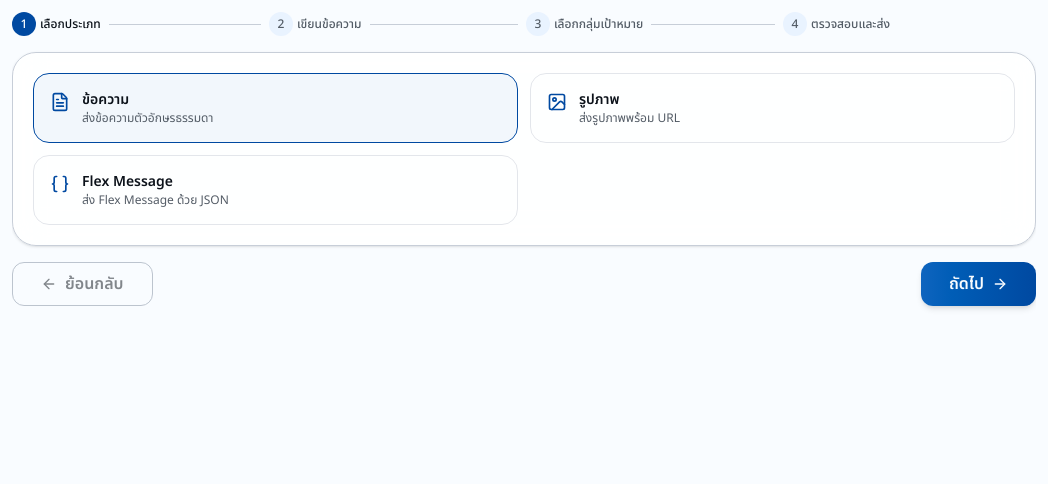
Test: BroadcastWizardClient ตัวช่วยสร้าง 4 ขั้น › ขั้นเขียนข้อความมีช่องชื่อแคมเปญ + ตัวนับ 5000
Click the button "ถัดไป".
click(978, 284)  # box [921,262,1036,306]
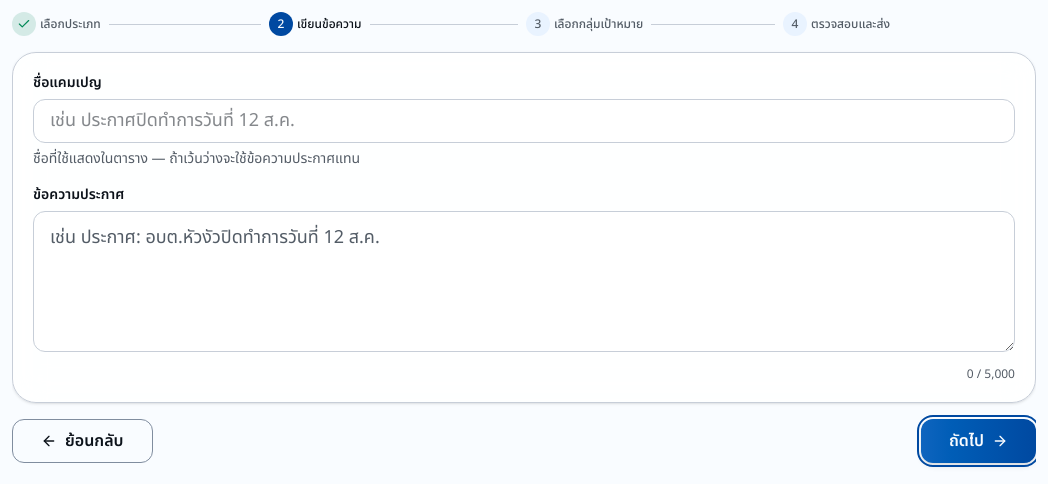
Result: the field labelled "ชื่อแคมเปญ" is shown at [33,99,1015,143]
Result: the text "0 / 5,000" is shown at [967,365,1015,383]
Type "สวัสดี" into the text box labelled "ข้อความประกาศ".
click(524, 282); type("สวัสดี")  # box [33,211,1015,352]
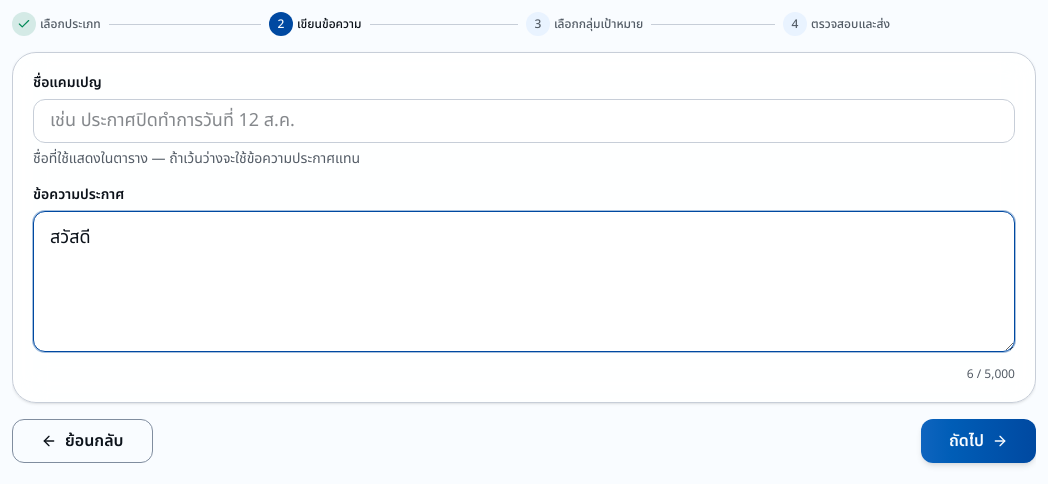
Result: the text "6 / 5,000" is shown at [967,365,1015,383]
